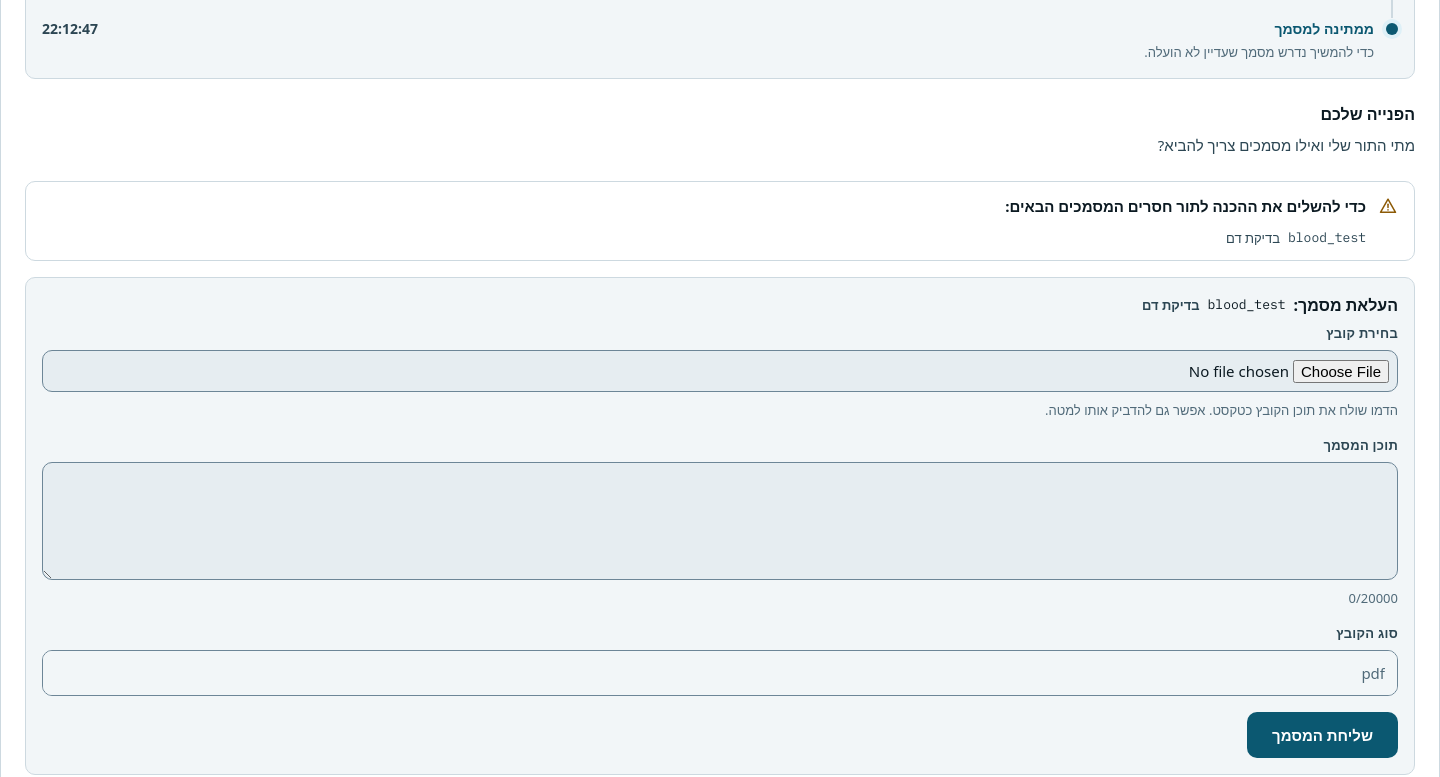
Test case: RequestDetail: needs_document (D24) › does not send an empty document
(page scrolled)
What coordinates should you click on to do the following:
click the button "שליחת המסמך"
I would click on:
 (1322, 735)
Its box is [1247,712,1398,758].
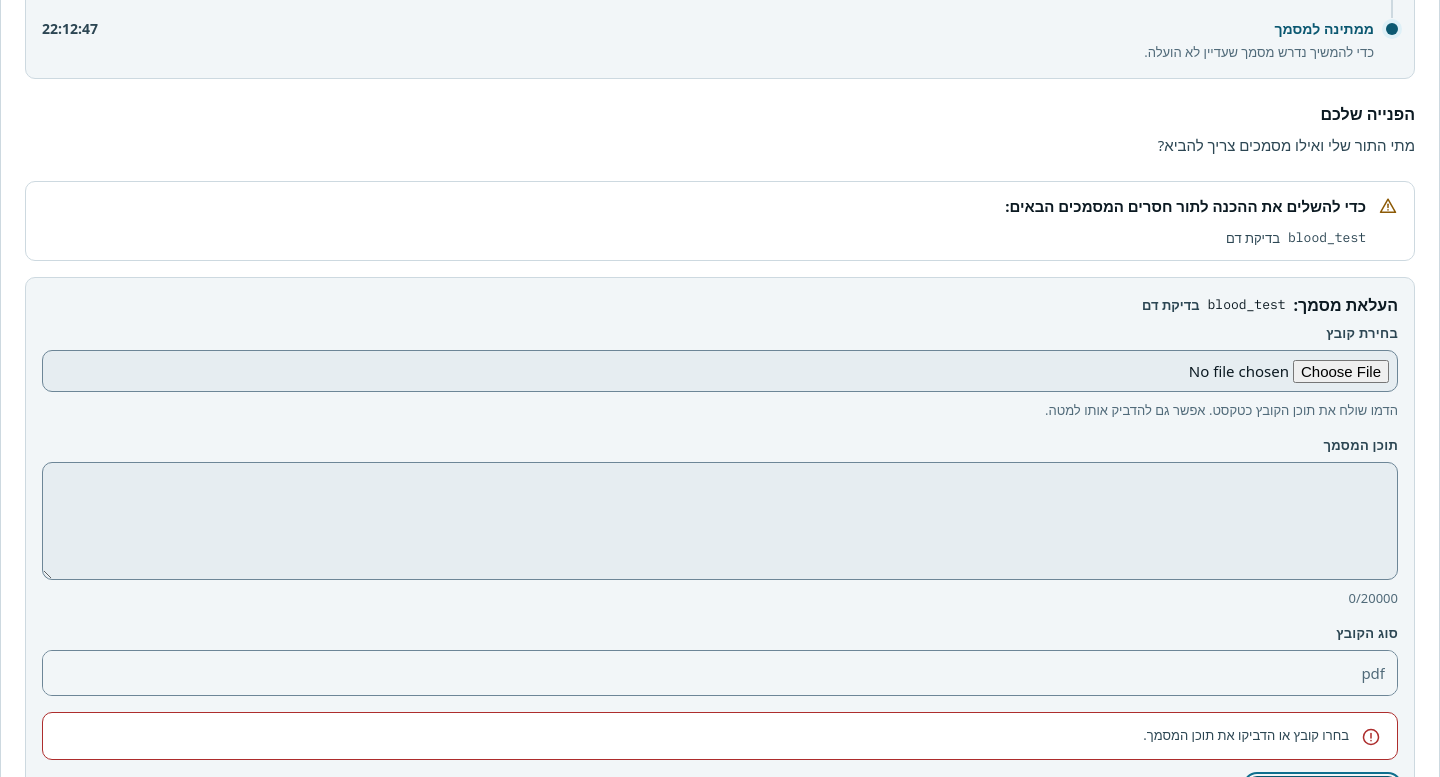
Now the message "בחרו קובץ או הדביקו את תוכן המסמך." is shown, box [42,712,1398,760]
